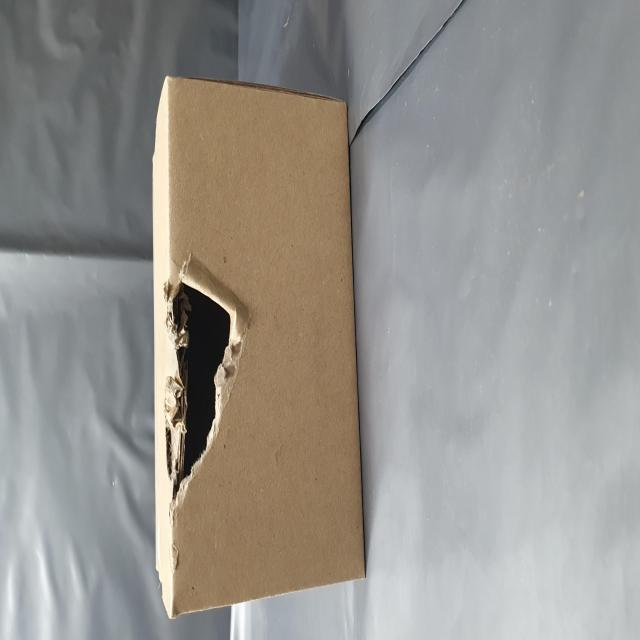damaged: (80, 291, 209, 440)
